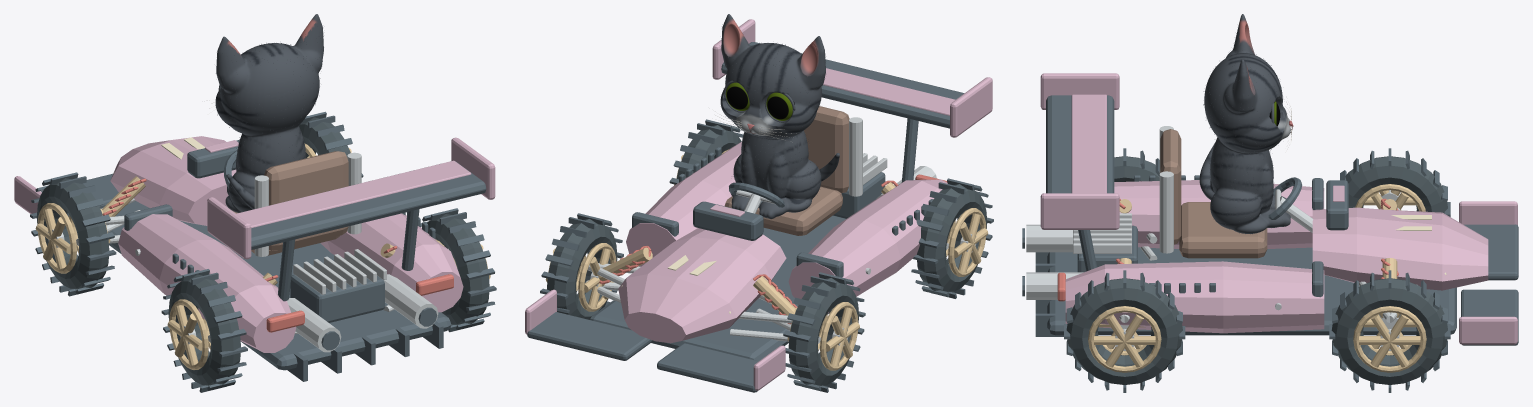
The model's file is mochi_kart.glb.
3 renders of one model, left to right at view 1: azimuth 30°, elevation 25°; view 2: azimuth 150°, elevation 25°; view 3: azimuth 270°, elevation 25°, orthographic. The views are drawn at different scales.
Visible parts, largest first — view 1: Continuous feline anatomy, Radiator sidepod, Undertray, Long sculpted nose, Rear aerofoil, Radiator sidepod.001, Rear wing enamel, Profiled racing tyre, Profiled racing tyre.001, Seat back, Profiled racing tyre.003, Engine block (+20 smaller); view 2: Continuous feline anatomy, Long sculpted nose, Radiator sidepod, Undertray, Radiator sidepod.001, Profiled racing tyre, Profiled racing tyre.001, Front wing.001, Rear aerofoil, Profiled racing tyre.002, Front wing, Seat back (+23 smaller); view 3: Continuous feline anatomy, Radiator sidepod.001, Long sculpted nose, Profiled racing tyre.002, Profiled racing tyre.003, Undertray, Radiator sidepod, Rear wing enamel, Bucket seat, Rear aerofoil, Profiled racing tyre, Wing endplate.002 (+19 smaller).
Part boxes in pixels (bbox=[...]): Continuous feline anatomy: bbox=[215, 14, 323, 212]; Radiator sidepod: bbox=[118, 214, 296, 352]; Undertray: bbox=[108, 201, 451, 370]; Long sculpted nose: bbox=[110, 136, 236, 225]; Rear aerofoil: bbox=[251, 161, 486, 249]; Radiator sidepod.001: bbox=[320, 213, 463, 312]; Rear wing enamel: bbox=[236, 160, 471, 227]; Profiled racing tyre: bbox=[36, 178, 109, 289]; Profiled racing tyre.001: bbox=[168, 274, 240, 385]; Seat back: bbox=[264, 151, 348, 250]; Profiled racing tyre.003: bbox=[427, 214, 489, 325]; Engine block: bbox=[290, 274, 384, 322]; Continuous feline anatomy: bbox=[720, 14, 825, 219]; Long sculpted nose: bbox=[618, 228, 786, 343]; Radiator sidepod: bbox=[788, 179, 947, 313]; Undertray: bbox=[590, 215, 845, 360]; Radiator sidepod.001: bbox=[626, 142, 741, 266]; Profiled racing tyre: bbox=[788, 277, 858, 385]; Profiled racing tyre.001: bbox=[917, 184, 987, 292]; Front wing.001: bbox=[527, 312, 652, 360]; Rear aerofoil: bbox=[721, 42, 964, 128]; Profiled racing tyre.002: bbox=[547, 219, 617, 319]; Front wing: bbox=[657, 343, 758, 392]; Seat back: bbox=[804, 106, 849, 193]; Continuous feline anatomy: bbox=[1204, 14, 1290, 233]; Radiator sidepod.001: bbox=[1065, 261, 1324, 333]; Long sculpted nose: bbox=[1312, 207, 1488, 290]; Profiled racing tyre.002: bbox=[1331, 278, 1447, 384]; Profiled racing tyre.003: bbox=[1066, 278, 1182, 384]; Undertray: bbox=[1047, 247, 1456, 335]; Radiator sidepod: bbox=[1114, 180, 1324, 248]; Rear wing enamel: bbox=[1071, 94, 1106, 193]; Bucket seat: bbox=[1179, 202, 1267, 258]; Rear aerofoil: bbox=[1046, 95, 1114, 193]; Profiled racing tyre: bbox=[1345, 156, 1447, 213]; Wing endplate.002: bbox=[1040, 193, 1119, 229].
Size of the model in its own units: 2.59 by 2.43 by 3.78.
14 materials, 2 textured.
